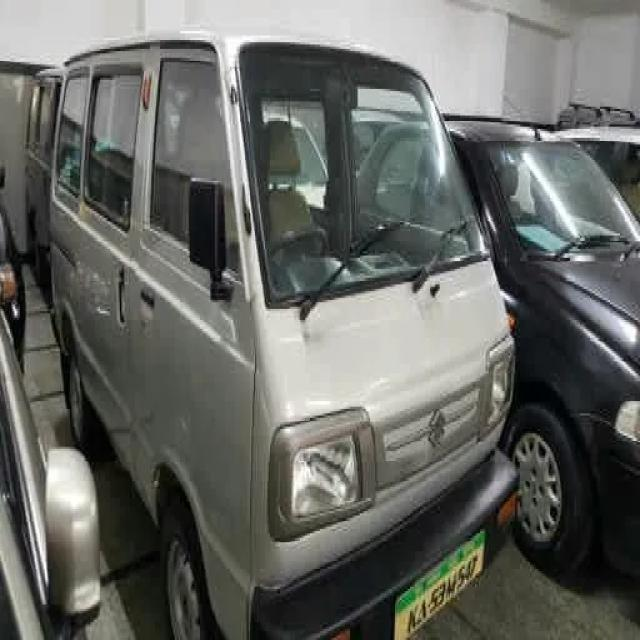Ambulance: (5, 20, 634, 631), (351, 108, 639, 584)
